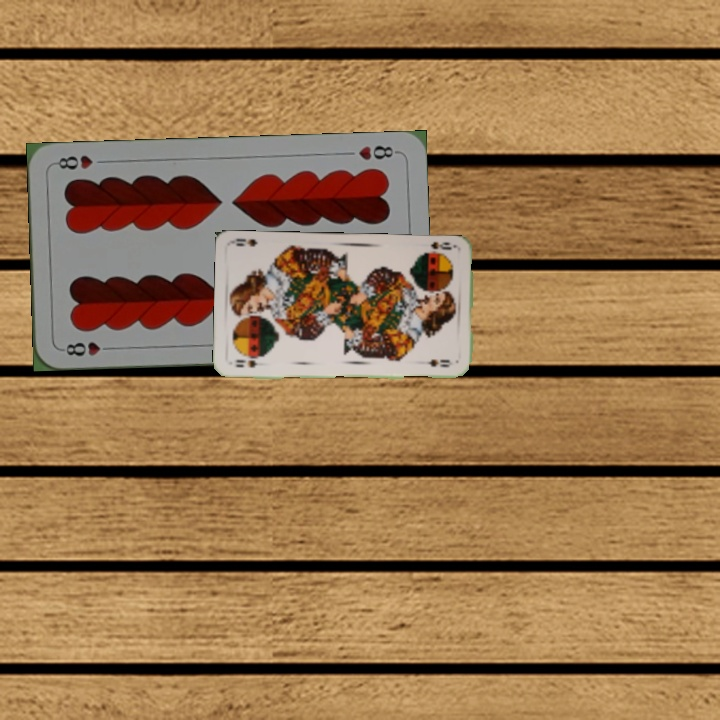H8: (58, 338, 117, 359), (354, 142, 400, 163)
SO: (418, 238, 459, 258), (232, 356, 260, 370)
